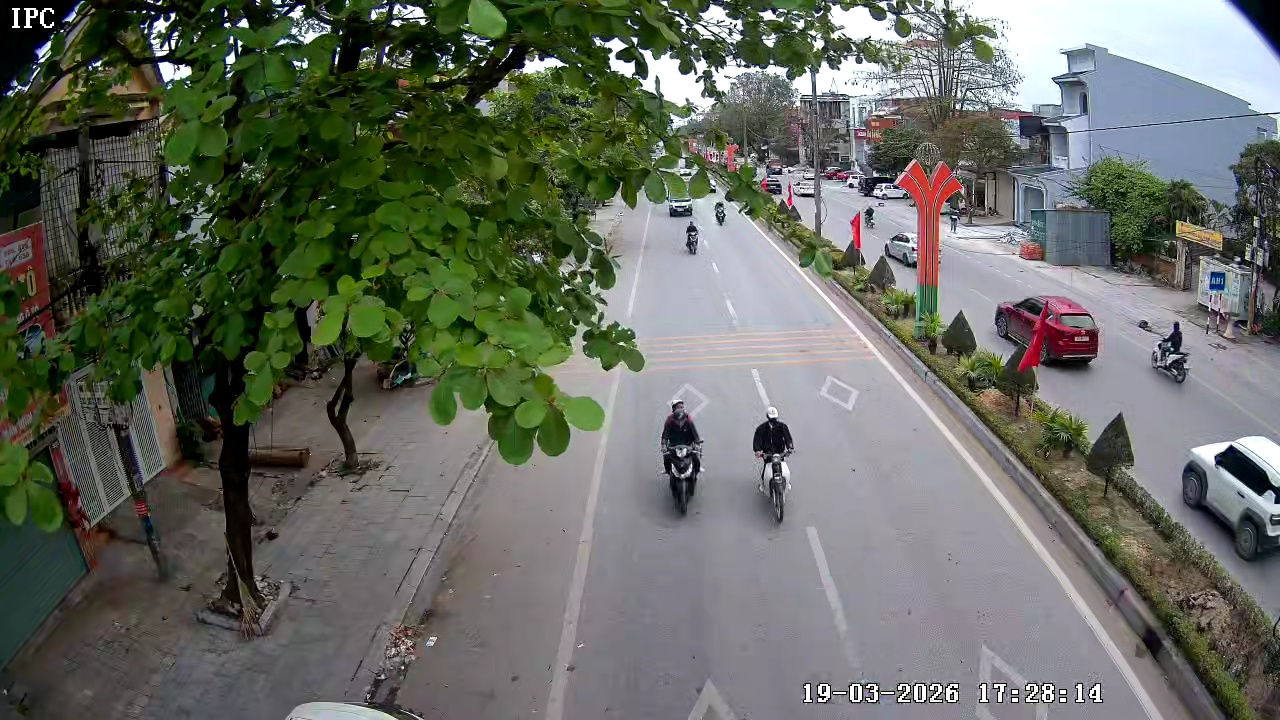car: (1180, 432, 1279, 560), (994, 293, 1101, 368)
motorbike: (657, 393, 706, 515), (750, 405, 796, 526), (1148, 318, 1192, 386), (682, 218, 701, 255), (712, 194, 728, 226)
